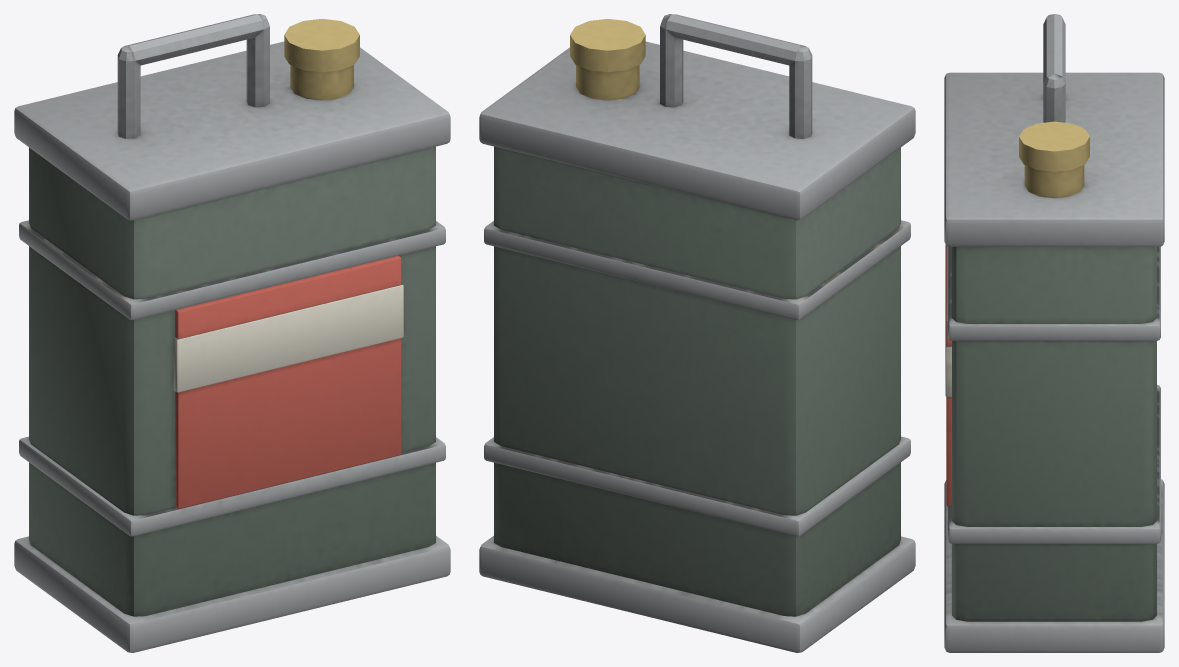
The model's file is oil_can_ms20.glb.
3 renders of one model, left to right at view 1: azimuth 30°, elevation 25°; view 2: azimuth 150°, elevation 25°; view 3: azimuth 270°, elevation 25°, orthographic. The views are drawn at different scales.
Parts seen in each view (by area): view 1: oil_can_ms20; view 2: oil_can_ms20; view 3: oil_can_ms20.
Boxes of the visible parts, x1,y1,x2,y2 form: oil_can_ms20: (14, 14, 450, 652); oil_can_ms20: (479, 14, 915, 652); oil_can_ms20: (944, 14, 1164, 652).
Size of the model in its own units: 0.188 by 0.307 by 0.118.
1 material, 1 textured.
